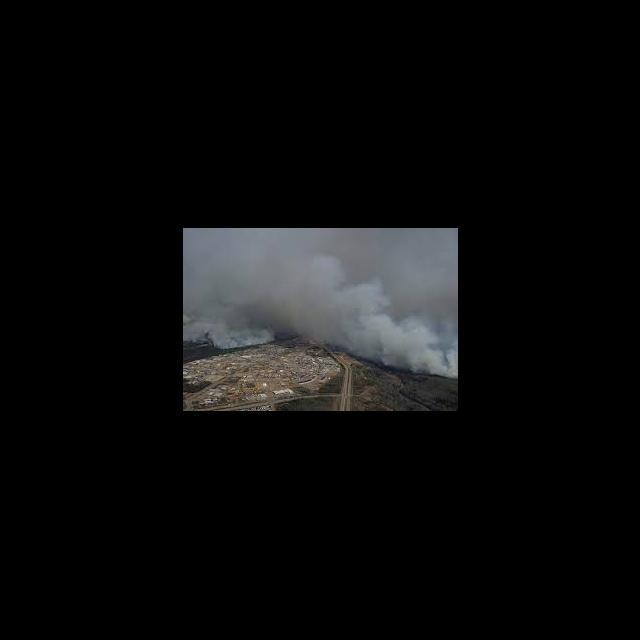Smoke: (183, 229, 458, 379)
